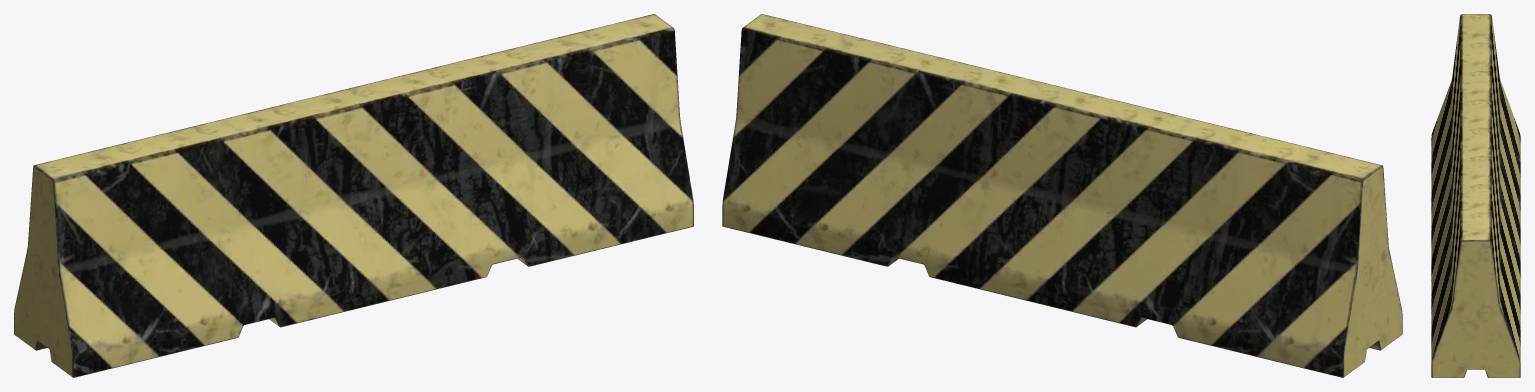
File: concrete_road_barrier.glb
3 renders of one model, left to right at view 1: azimuth 30°, elevation 25°; view 2: azimuth 150°, elevation 25°; view 3: azimuth 270°, elevation 25°, orthographic. The views are drawn at different scales.
Visible parts, largest first — view 1: Box001; view 2: Box001; view 3: Box001.
Part boxes in pixels (box(x1,y1,x2,y2)): Box001: box(14, 14, 693, 377); Box001: box(722, 14, 1402, 377); Box001: box(1431, 14, 1520, 377).
Size of the model in its own units: 0.2548 by 0.0723 by 0.0423.
Materials: 2 (2 with a texture image).
